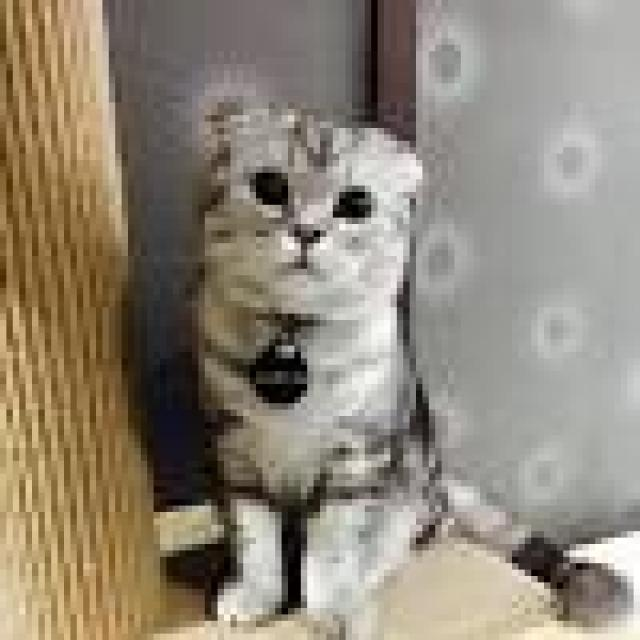cat-face: (141, 70, 519, 372)
